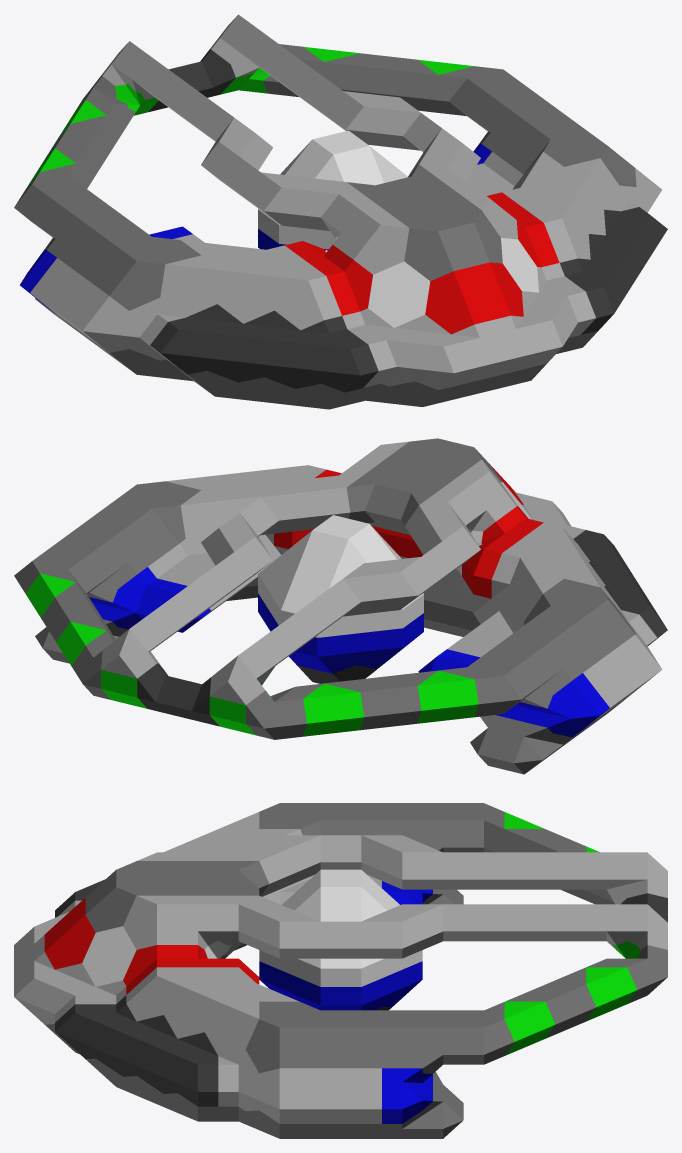
Rendered from ship_gavinc_fighter_light.fbx.
The picture shows the model from 3 angles, top to bottom: view 1: azimuth 30°, elevation 25°; view 2: azimuth 150°, elevation 25°; view 3: azimuth 270°, elevation 25°; orthographic projection. The views are drawn at different scales.
Parts seen in each view (by area): view 1: ship_gavinc_fighter_light; view 2: ship_gavinc_fighter_light; view 3: ship_gavinc_fighter_light.
Part boxes in pixels (box(x1,y1,x2,y2)): ship_gavinc_fighter_light: box(14, 14, 667, 409); ship_gavinc_fighter_light: box(14, 438, 667, 774); ship_gavinc_fighter_light: box(14, 803, 667, 1138).
Bounding box in the file's own units: 1600 × 400 × 1600.
